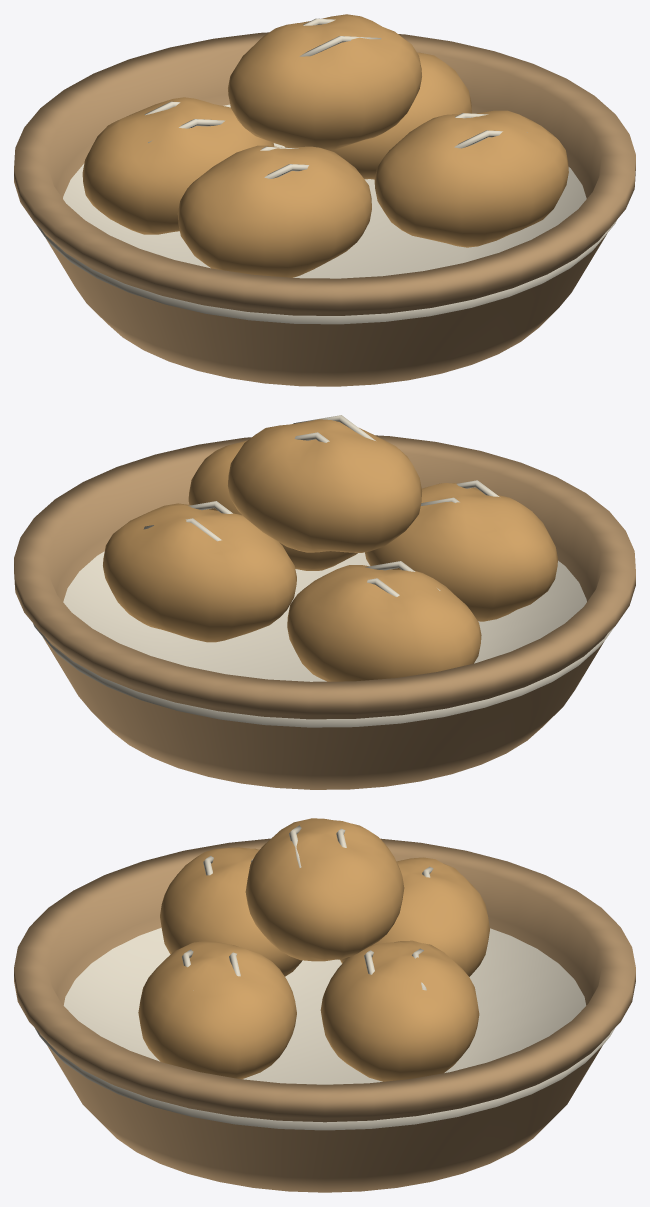
Rendered from bread_basket.glb.
The picture shows the model from 3 angles, top to bottom: view 1: azimuth 30°, elevation 25°; view 2: azimuth 150°, elevation 25°; view 3: azimuth 270°, elevation 25°; orthographic projection.
Parts seen in each view (by area): view 1: bread_basket__body, bread_basket__bread, bread_basket__accent; view 2: bread_basket__body, bread_basket__bread, bread_basket__accent; view 3: bread_basket__body, bread_basket__bread, bread_basket__accent.
Boxes of the visible parts, x1,y1,x2,y2 form: bread_basket__body: (14,32,635,386); bread_basket__bread: (82,14,568,277); bread_basket__accent: (36,18,616,324); bread_basket__body: (14,435,635,789); bread_basket__bread: (103,419,557,681); bread_basket__accent: (33,415,613,727); bread_basket__body: (14,838,635,1192); bread_basket__bread: (138,818,489,1081); bread_basket__accent: (34,825,615,1130).
Bounding box in the file's own units: 0.29 × 0.1357 × 0.29.
